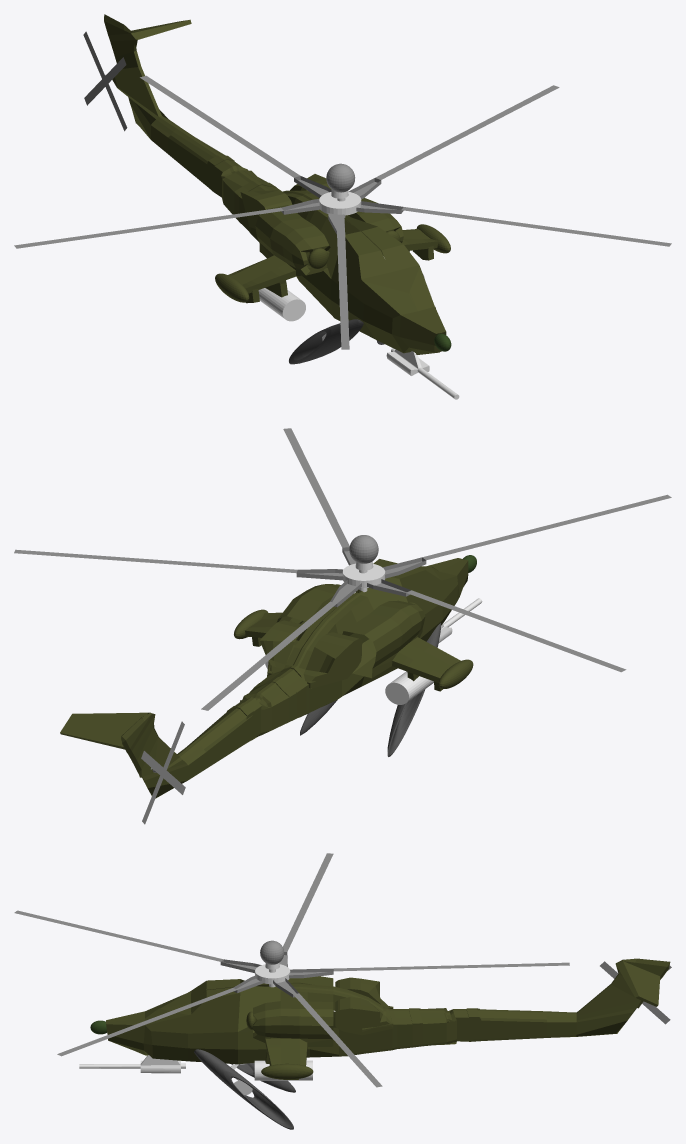
3 views of the same model, one above another, from view 1: azimuth 30°, elevation 25°; view 2: azimuth 150°, elevation 25°; view 3: azimuth 270°, elevation 25° (orthographic). The views are drawn at different scales.
Visible parts, largest first — view 1: fuselage, blade, blade.003, blade.002, blade.001, Torus.001, blade.004, m23Cannon, rightRocketPipe, rotorMast, Sphere; view 2: fuselage, blade.001, blade.004, blade.003, blade.002, blade, Torus.001, rightRocketPipe, rotorMast, Sphere; view 3: fuselage, Torus, blade.002, blade.004, blade, blade.001, m23Cannon, blade.003, rotorMast, Sphere, Torus.001, leftRocketPipe.
Part boxes in pixels (x1,y1,x2,y2): fuselage: (104, 14, 450, 354); blade: (356, 201, 671, 246); blade.003: (14, 199, 321, 248); blade.002: (140, 75, 331, 197); blade.001: (348, 85, 559, 199); Torus.001: (289, 319, 363, 364); blade.004: (328, 213, 349, 349); m23Cannon: (386, 348, 459, 399); rightRocketPipe: (258, 288, 305, 321); rotorMast: (319, 192, 361, 217); Sphere: (326, 163, 355, 192); fuselage: (60, 558, 473, 798); blade.001: (14, 549, 343, 580); blade.004: (382, 494, 671, 578); blade.003: (367, 579, 626, 672); blade.002: (201, 580, 361, 710); blade: (283, 428, 355, 565); Torus.001: (387, 623, 440, 756); rightRocketPipe: (385, 671, 433, 704); rotorMast: (342, 563, 385, 592); Sphere: (349, 535, 378, 563); fuselage: (106, 958, 670, 1079); Torus: (194, 1049, 293, 1129); blade.002: (289, 962, 569, 978); blade.004: (14, 910, 261, 973); blade: (57, 975, 265, 1056); blade.001: (273, 978, 382, 1087); m23Cannon: (79, 1055, 185, 1073); blade.003: (279, 853, 333, 966); rotorMast: (255, 964, 290, 987); Sphere: (260, 940, 284, 964); Torus.001: (231, 1062, 295, 1092); leftRocketPipe: (254, 1060, 312, 1080).
Bounding box in the file's own units: 2284 × 761 × 2711.
